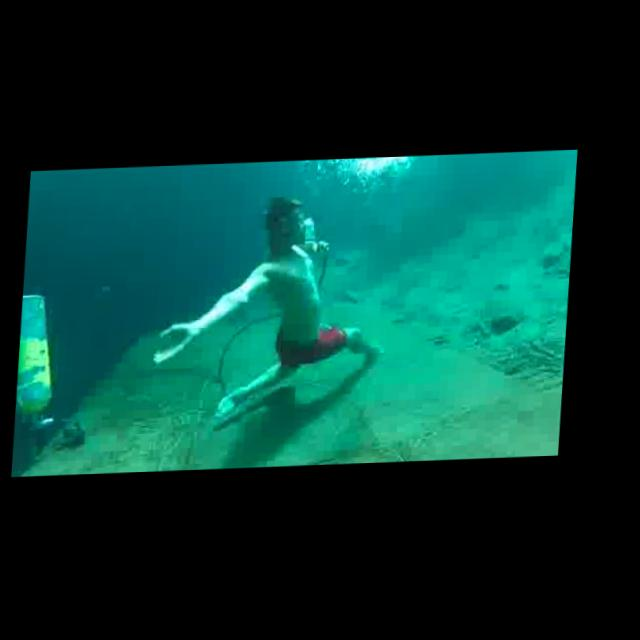human: (142, 190, 399, 428)
